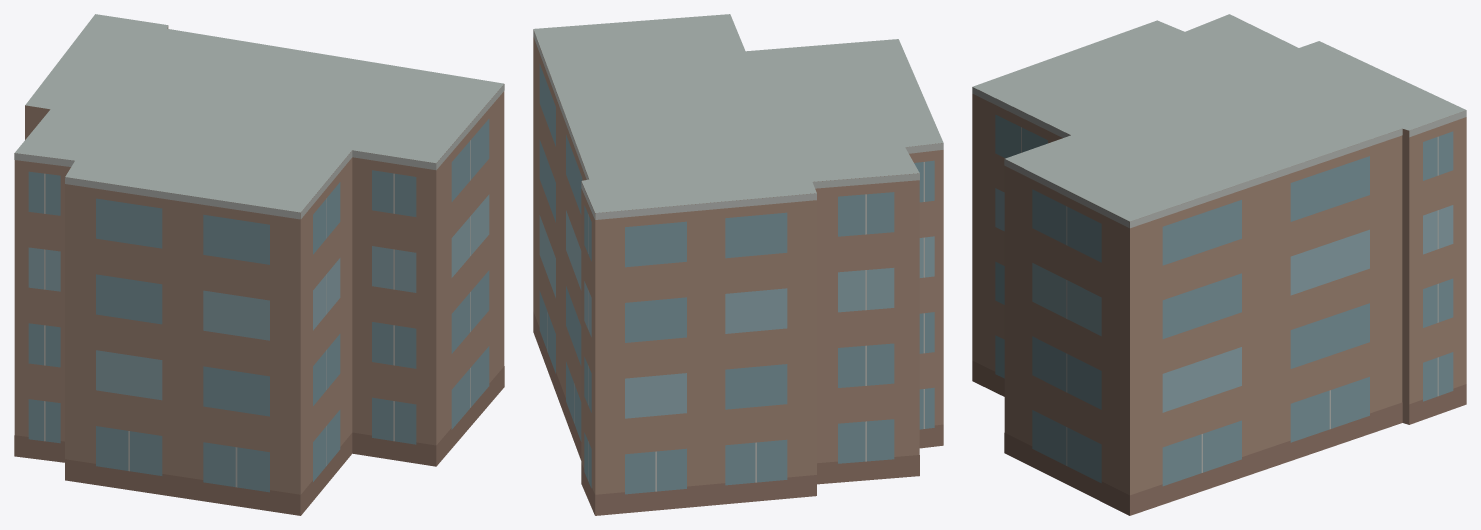
File: survey-upis-33021761.glb
3 views of the same model, side by side, from view 1: azimuth 30°, elevation 25°; view 2: azimuth 150°, elevation 25°; view 3: azimuth 270°, elevation 25° (orthographic). The views are drawn at different scales.
Parts seen in each view (by area): view 1: survey-upis-33021761.tmp; view 2: survey-upis-33021761.tmp; view 3: survey-upis-33021761.tmp.
Boxes of the visible parts, x1,y1,x2,y2 form: survey-upis-33021761.tmp: (14,14,504,515); survey-upis-33021761.tmp: (533,14,943,515); survey-upis-33021761.tmp: (972,14,1466,515).
Size of the model in its own units: 16.05 by 10.6 by 16.15.
